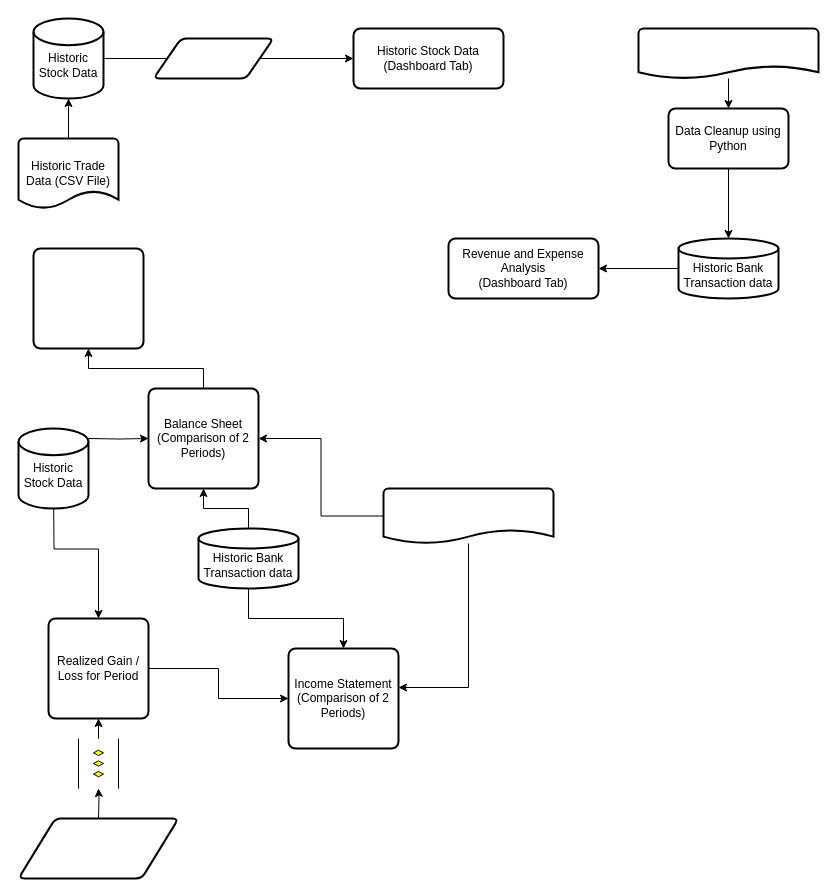
Image size: 836x896. Some labels were removed from this diagram. The centre of each missing label's shape, as x and y in pixels:
Cash Flow Statement (1 Period): the point at 88,298
FMV Stock Data from dcc.Store: the point at 98,848
Historic Stock Trade Data: the point at 213,58
Historic Transactions by Bank (CSV File): the point at 728,53
Liabilities (CSV File): the point at 468,515
